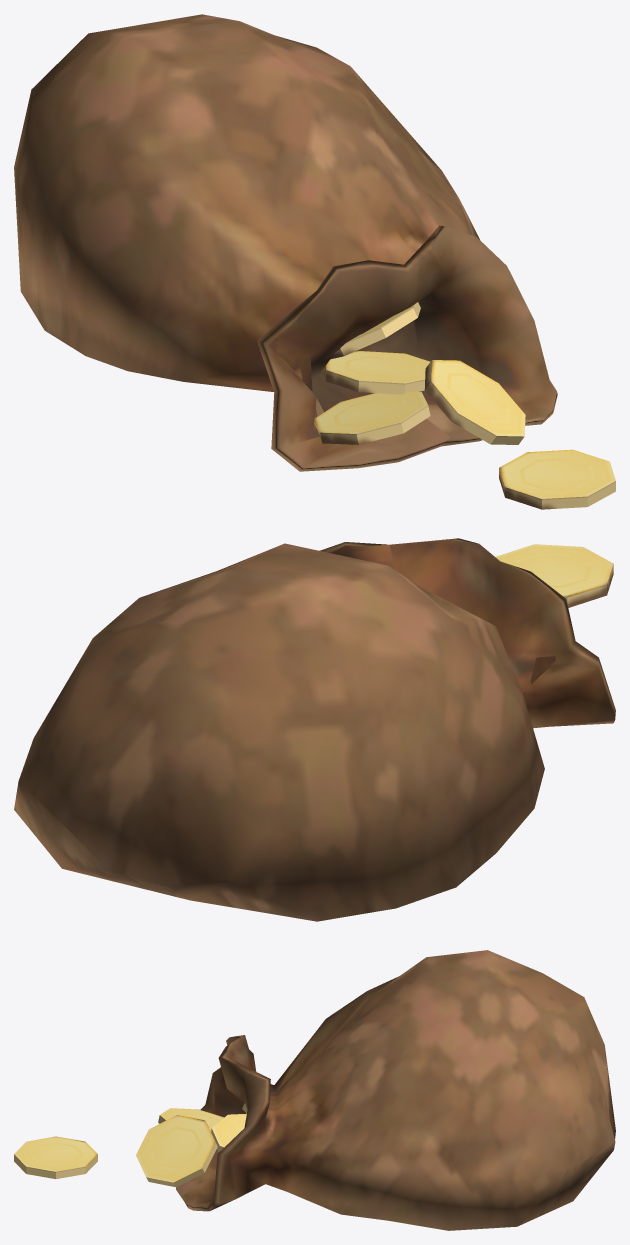
Rendered from coin_pouch.glb.
3 renders of one model, top to bottom at view 1: azimuth 30°, elevation 25°; view 2: azimuth 150°, elevation 25°; view 3: azimuth 270°, elevation 25°, orthographic. The views are drawn at different scales.
Parts seen in each view (by area): view 1: bounty_low; view 2: bounty_low; view 3: bounty_low.
Boxes of the visible parts, <box> form: bounty_low: <box>14,14,615,509</box>; bounty_low: <box>14,538,615,921</box>; bounty_low: <box>14,950,615,1230</box>.
Bounding box in the file's own units: 0.00528 × 0.00362 × 0.0102.
Materials: 1 (1 with a texture image).
